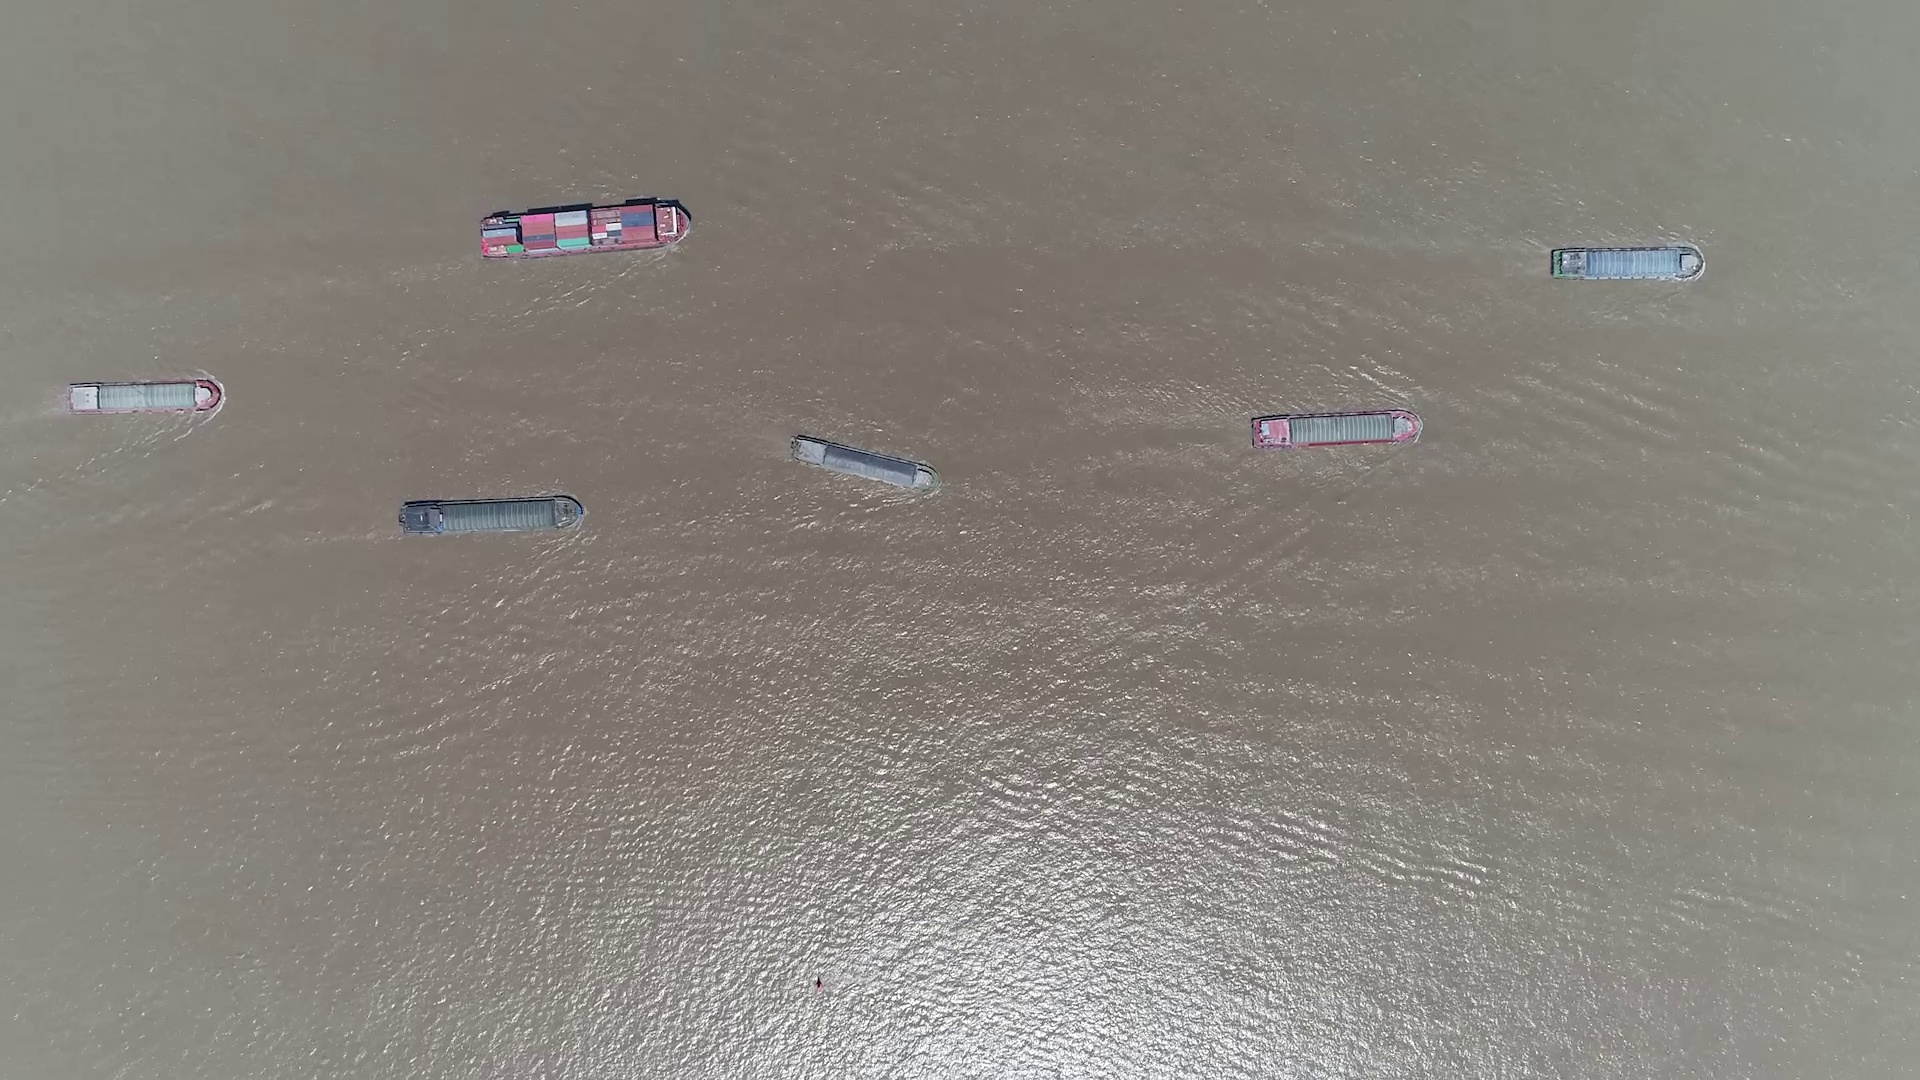ship: (479, 202, 691, 258), (789, 435, 935, 491), (398, 497, 582, 535), (1249, 410, 1422, 448), (1552, 247, 1702, 280), (65, 381, 220, 413)
